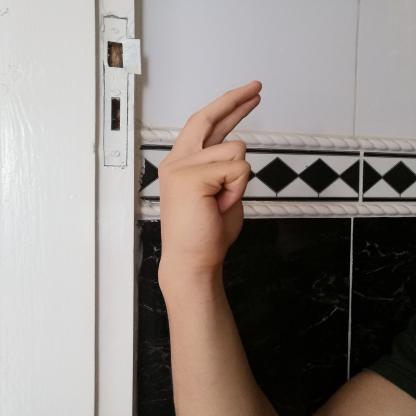ZAY: (146, 70, 282, 286)
